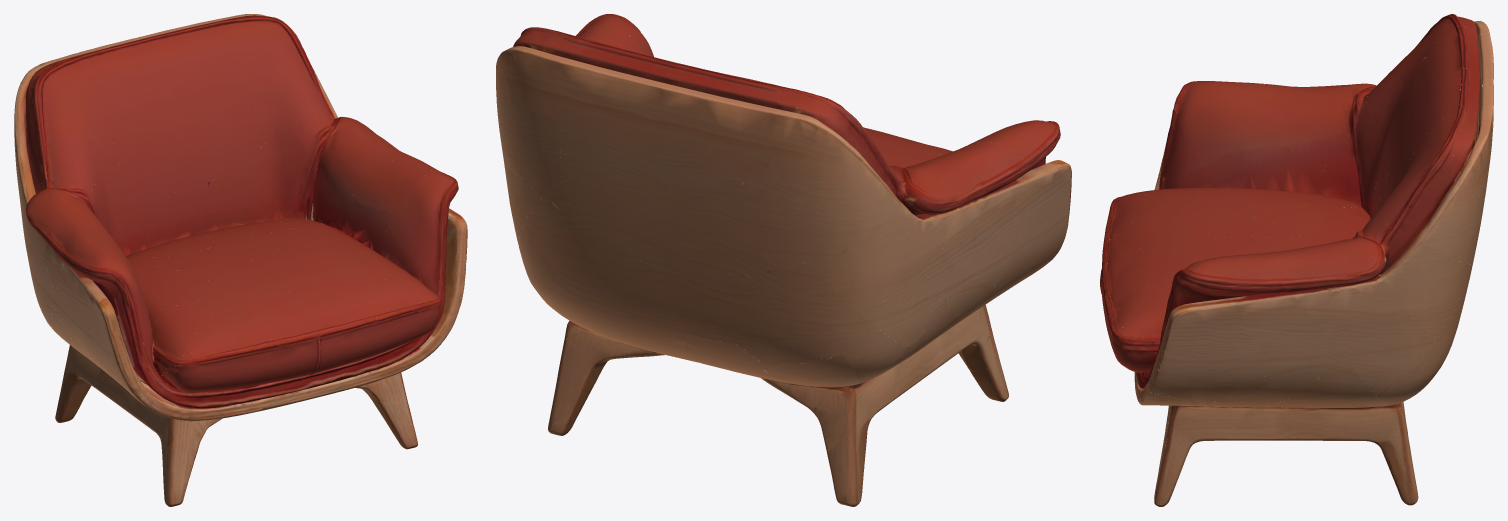
File: comfy6.glb
The picture shows the model from 3 angles, left to right: view 1: azimuth 30°, elevation 25°; view 2: azimuth 150°, elevation 25°; view 3: azimuth 270°, elevation 25°; orthographic projection. The views are drawn at different scales.
Parts seen in each view (by area): view 1: tripo_node_06ff49db-bbfb-41b0-a105-2a32835b919a; view 2: tripo_node_06ff49db-bbfb-41b0-a105-2a32835b919a; view 3: tripo_node_06ff49db-bbfb-41b0-a105-2a32835b919a.
Part boxes in pixels (<box>): tripo_node_06ff49db-bbfb-41b0-a105-2a32835b919a: <box>14,14,467,506</box>; tripo_node_06ff49db-bbfb-41b0-a105-2a32835b919a: <box>496,14,1071,506</box>; tripo_node_06ff49db-bbfb-41b0-a105-2a32835b919a: <box>1100,14,1493,506</box>.
Size of the model in its own units: 0.9999 by 0.8775 by 0.844.
Materials: 1 (1 with a texture image).
